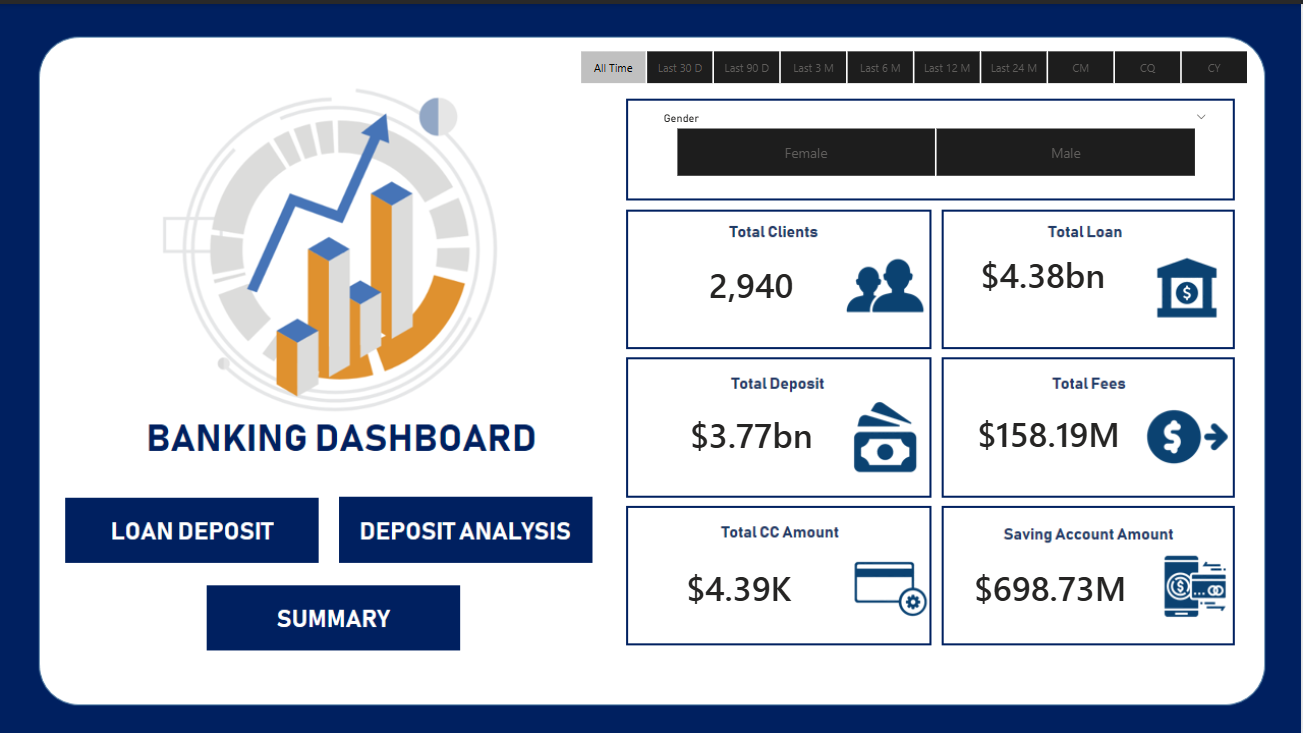

What the dashboard file says about the page in this screenshot:
{"tool":"powerbi","page":{"name":"Home","canvas":[1280,720],"ordinal":0},"visuals":[{"type":"slicer","fields":{"Values":["Gender.Gender"]},"box":[640.3,100.8,558.2,75],"z":0},{"type":"card","fields":{"Values":["DAX Measures.Total Clients"]},"box":[640.3,218.1,198.2,114.9],"z":1000},{"type":"card","fields":{"Values":["DAX Measures.Total Loan"]},"box":[933.4,208.7,184.1,114.9],"z":2000},{"type":"card","fields":{"Values":["DAX Measures.Total Deposit"]},"box":[640.3,374.1,198.2,98.5],"z":3000},{"type":"card","fields":{"Values":["DAX Measures.Total CC Amount"]},"box":[628.5,533.6,198.2,79.7],"z":4000},{"type":"card","fields":{"Values":["DAX Measures.Total Fees"]},"box":[938.1,372.9,185.3,99.7],"z":5000},{"type":"card","fields":{"Values":["DAX Measures.Savings Account"]},"box":[933.4,533.6,198.2,79.7],"z":6000},{"type":"actionButton","box":[63.3,483.1,253.3,65.7],"z":7000},{"type":"actionButton","box":[335.4,485.5,250.9,63.3],"z":8000},{"type":"actionButton","box":[205.2,573.4,255.6,61],"z":9000},{"type":"slicer","fields":{"Values":["Period.Name"]},"box":[546.4,38.7,703.6,45.7],"z":10000}]}

Visuals, with their boxes in screenshot pixels (x1, y1, x2, y2), scaled from the page's 1280x720 canvas onto the 1303x733 screenshot:
slicer - Gender.Gender: bbox=[652, 103, 1220, 179]
card - DAX Measures.Total Clients: bbox=[652, 222, 854, 339]
card - DAX Measures.Total Loan: bbox=[950, 212, 1138, 329]
card - DAX Measures.Total Deposit: bbox=[652, 381, 854, 481]
card - DAX Measures.Total CC Amount: bbox=[640, 543, 842, 624]
card - DAX Measures.Total Fees: bbox=[955, 380, 1144, 481]
card - DAX Measures.Savings Account: bbox=[950, 543, 1152, 624]
actionButton: bbox=[64, 492, 322, 559]
actionButton: bbox=[341, 494, 597, 559]
actionButton: bbox=[209, 584, 469, 646]
slicer - Period.Name: bbox=[556, 39, 1272, 86]
